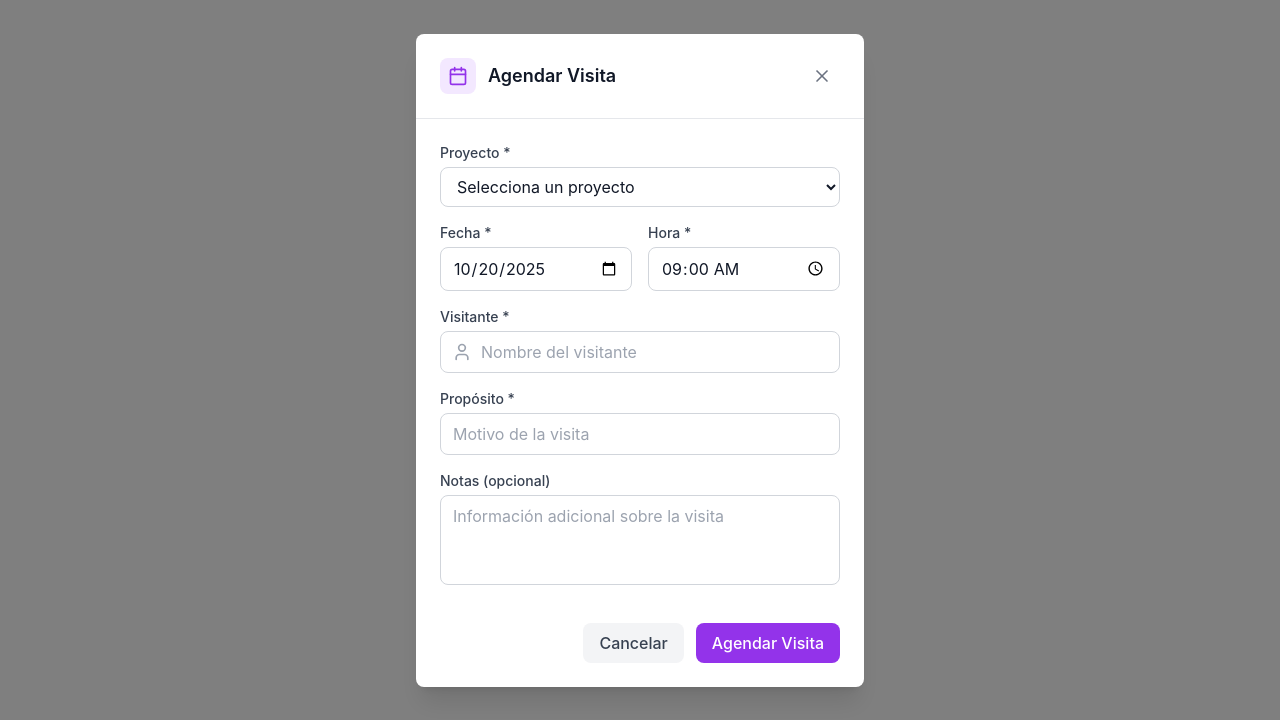
Test: VisitScheduleModal › Form Submission › should disable buttons during submission
Note: Fill form
Select "Proyecto Alpha" in the dropdown labelled "Proyecto *" at (640, 186), box [440,166,840,206]
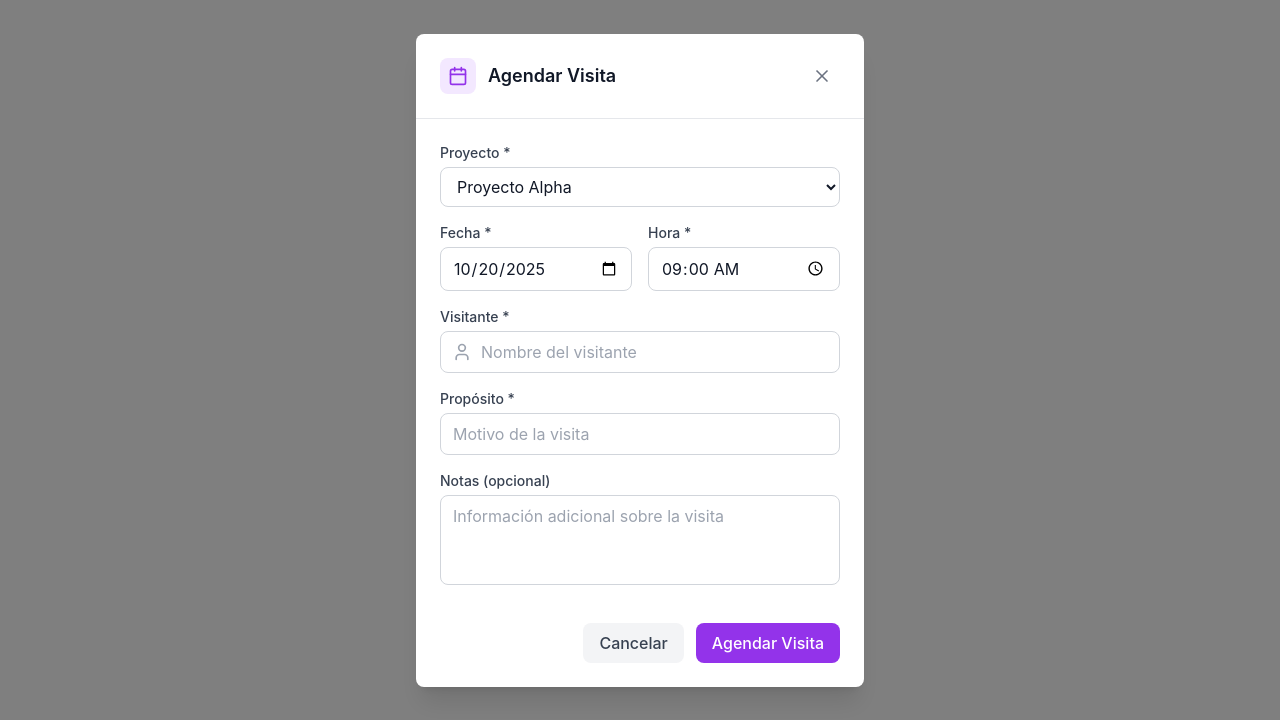
Type "Juan Pérez" into the field labelled "Visitante *".
click(640, 352); type("Juan Pérez")  # box [440,330,840,372]
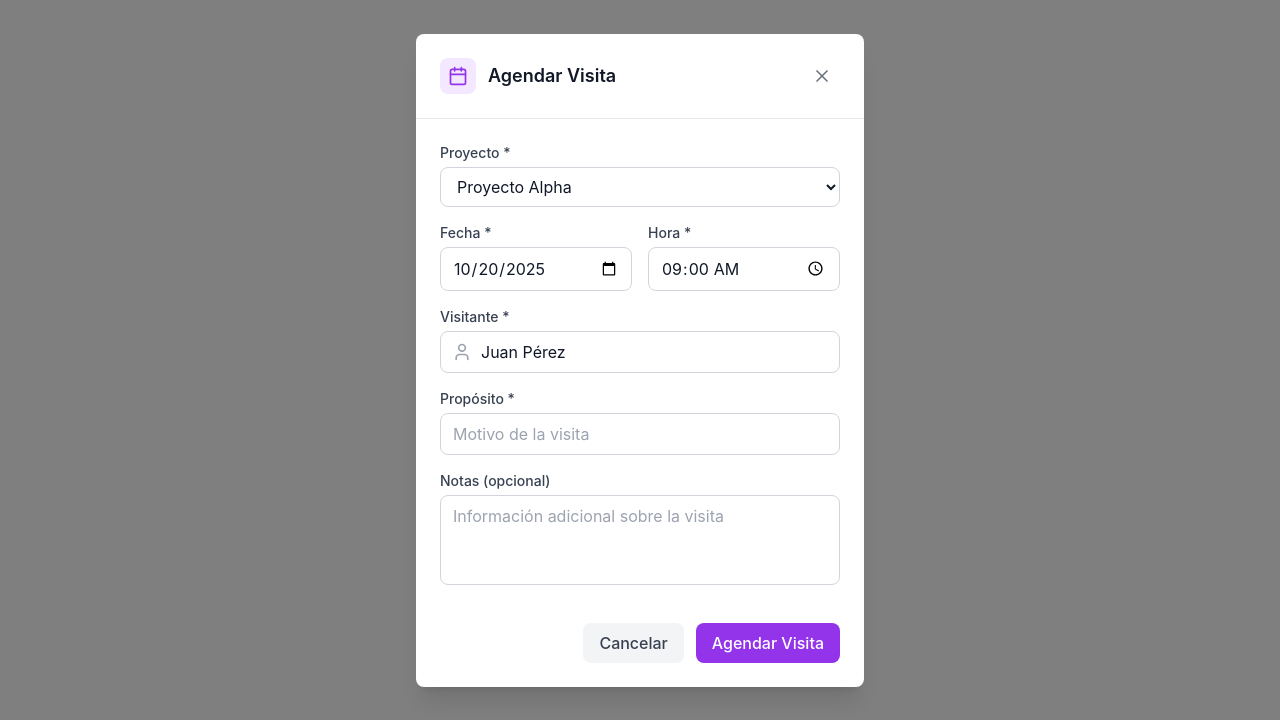
Type "Inspección" into the field labelled "Propósito *".
click(640, 434); type("Inspección")  # box [440,412,840,454]
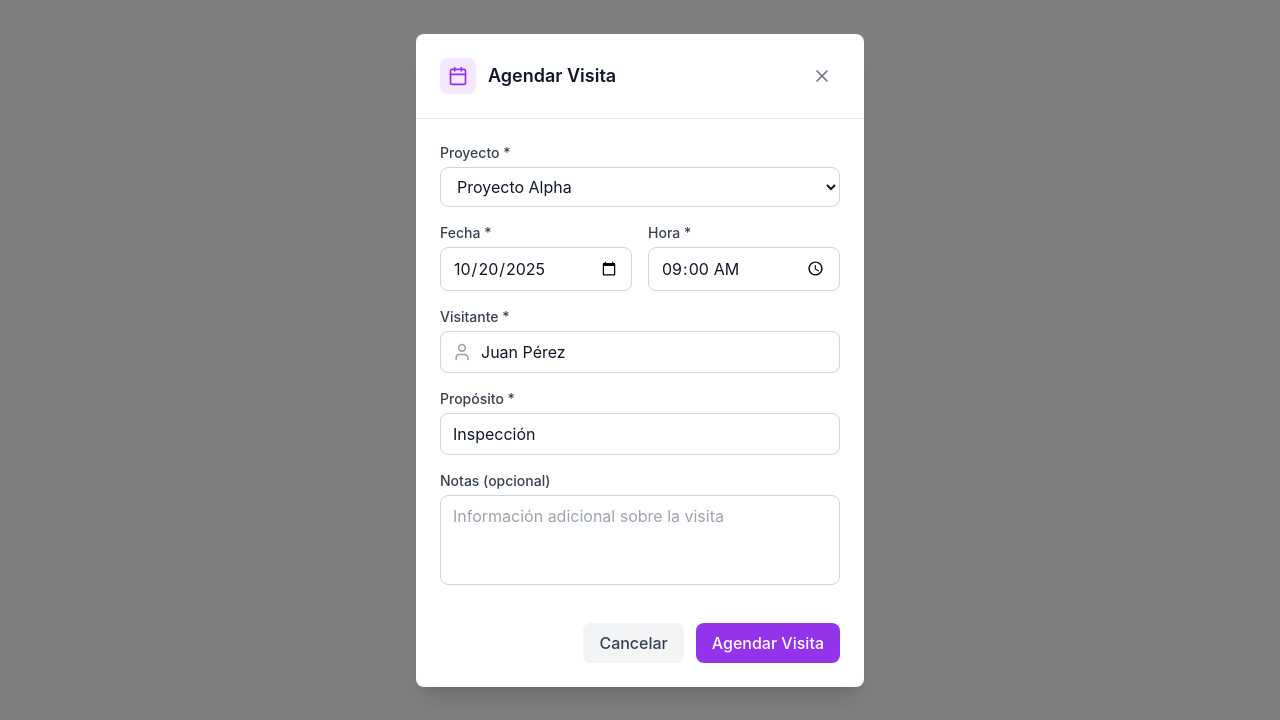
Click the button "Agendar Visita".
click(768, 642)  # box [696,622,840,662]
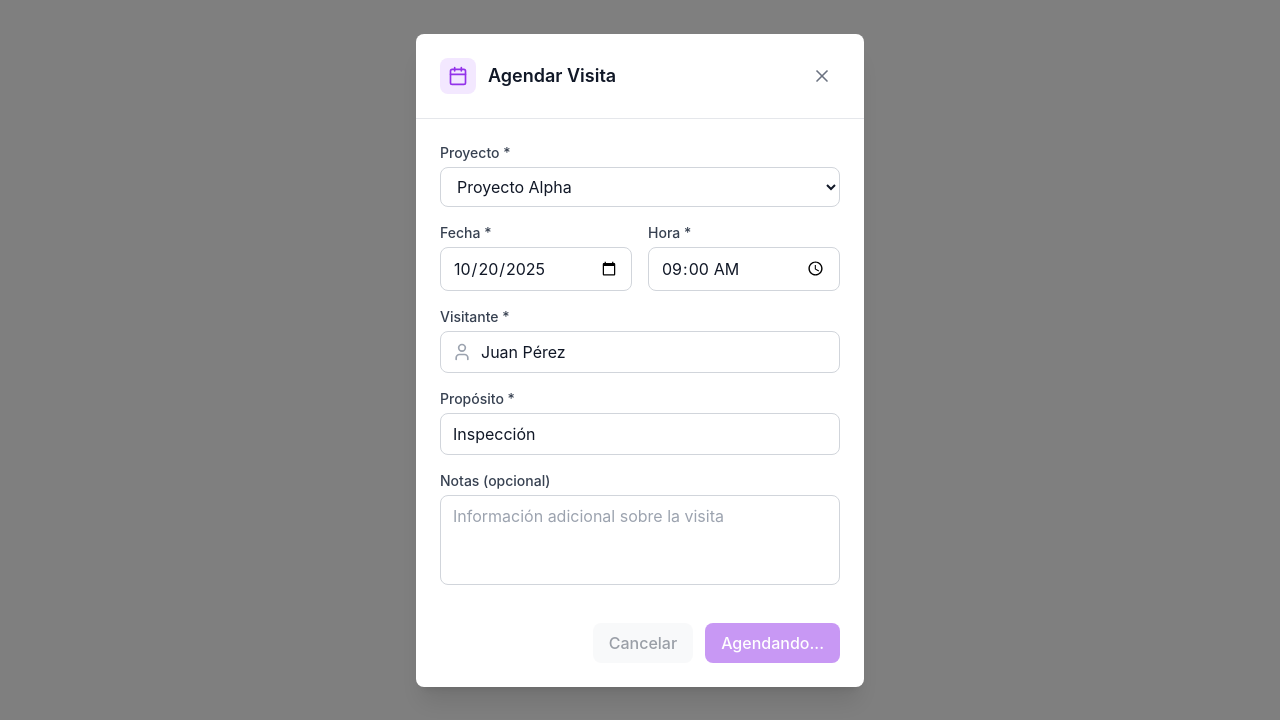
Expected: the button named "agendar visita" is disabled, [705,622,840,662]
Expected: the button "Cancelar" is disabled, [593,622,693,662]
